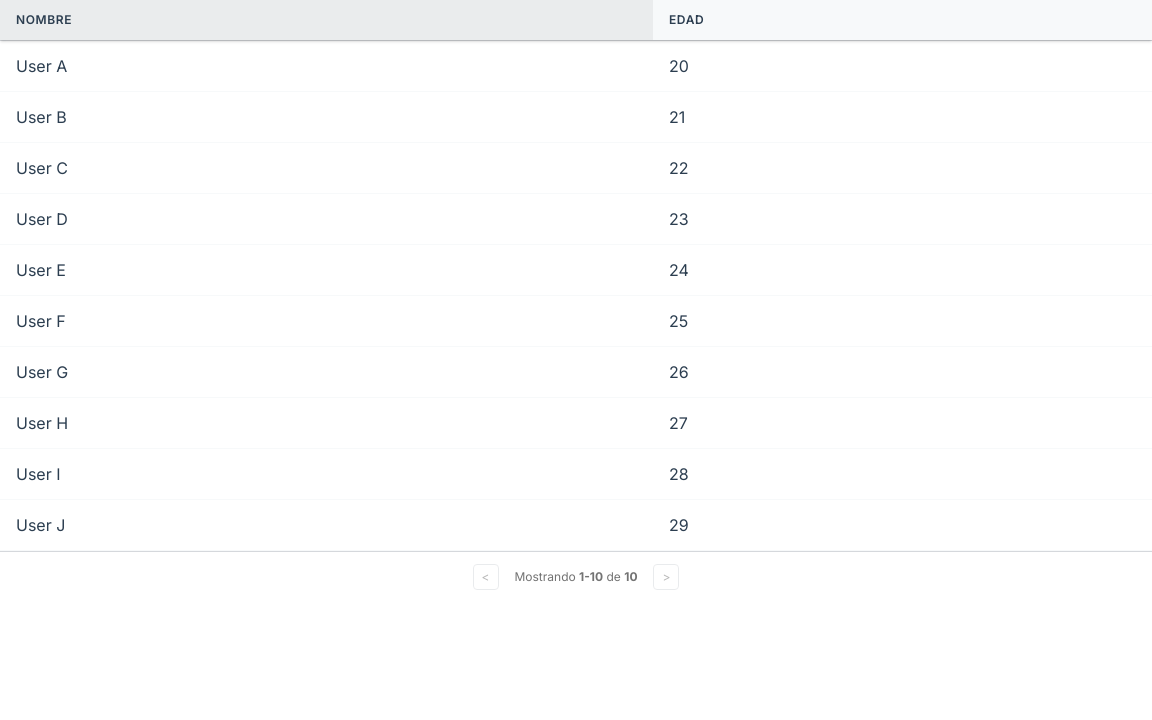
AdminTableComponent › sorting › shows sort indicator (▼) when column is sorted descending
The image size is (1152, 720).
Click the column heading "Nombre".
click(326, 20)  # box left=0, top=0, right=653, bottom=40
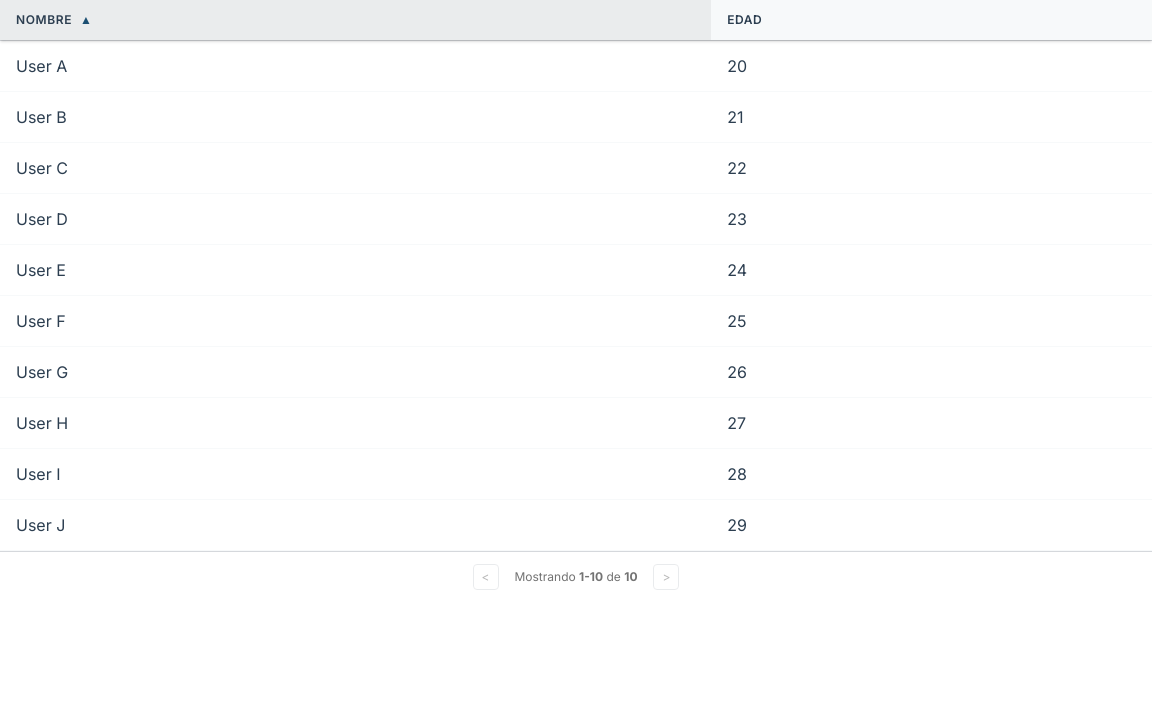
Click the column heading "Nombre ▲".
click(356, 20)  # box left=0, top=0, right=711, bottom=40
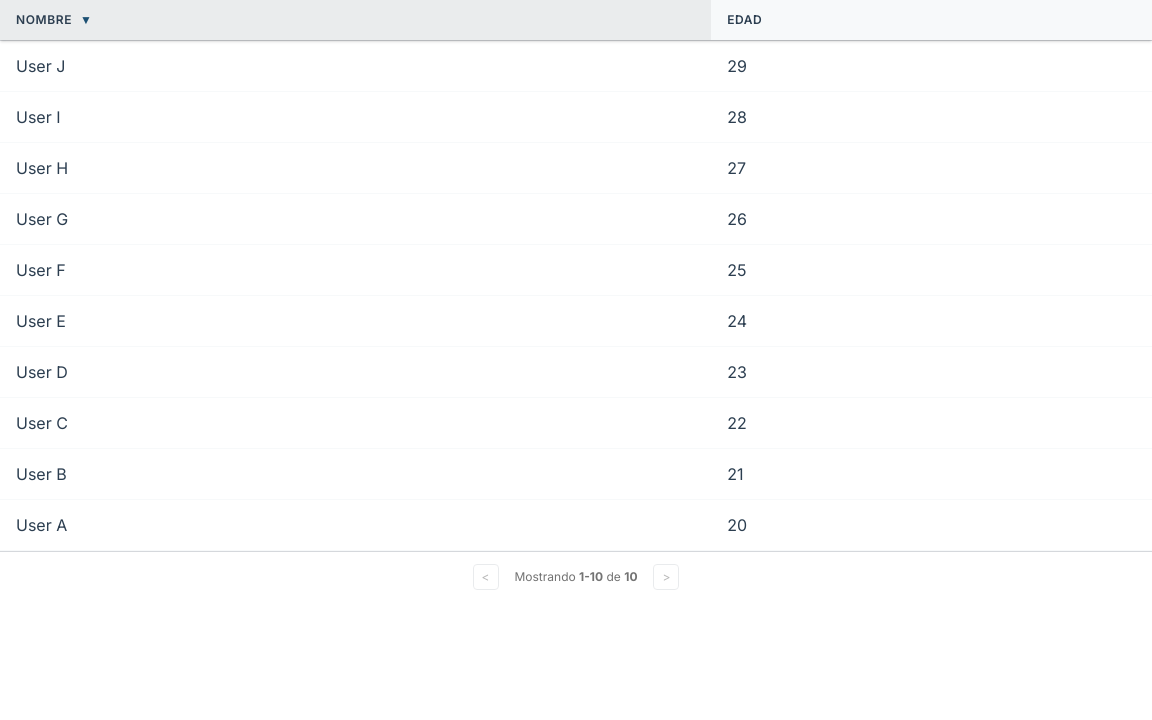
Result: the column heading "Nombre ▼" is shown at left=0, top=0, right=711, bottom=40
